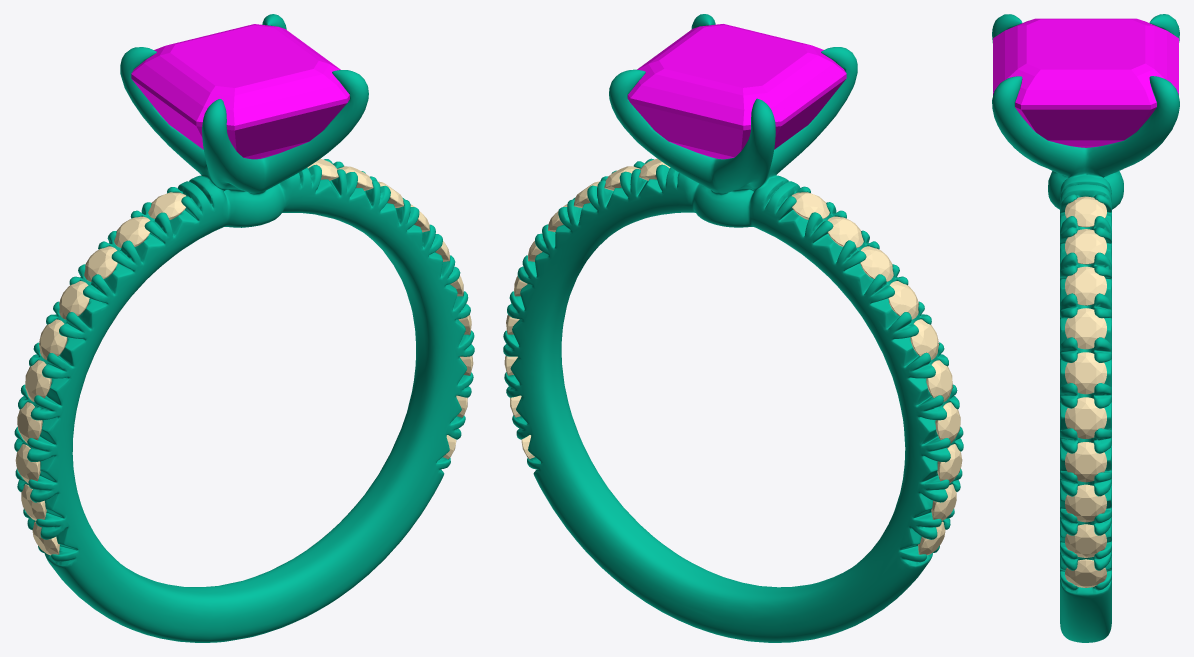
Rendered from BE1D7162_AS_200ct_RENDER.glb.
The picture shows the model from 3 angles, left to right: view 1: azimuth 30°, elevation 25°; view 2: azimuth 150°, elevation 25°; view 3: azimuth 270°, elevation 25°; orthographic projection.
Visible parts, largest first — view 1: Metal 01, CS_Diamond_Asscher, Diamond_Round_Gem_SH.002, Diamond_Round_Gem_SH.003, Diamond_Round_Gem_SH.004, Diamond_Round_Gem_SH.001, Diamond_Round_Gem_SH.005, Diamond_Round_Gem_SH, Diamond_Round_Gem_SH.006; view 2: Metal 01, CS_Diamond_Asscher, Diamond_Round_Gem_SH.003, Diamond_Round_Gem_SH.002, Diamond_Round_Gem_SH.004, Diamond_Round_Gem_SH.001, Diamond_Round_Gem_SH.005, Diamond_Round_Gem_SH, Diamond_Round_Gem_SH.006; view 3: Metal 01, CS_Diamond_Asscher, Diamond_Round_Gem_SH.014, Diamond_Round_Gem_SH.015, Diamond_Round_Gem_SH.013, Diamond_Round_Gem_SH.016, Diamond_Round_Gem_SH.012, Diamond_Round_Gem_SH.017, Diamond_Round_Gem_SH.011, Diamond_Round_Gem_SH.018, Diamond_Round_Gem_SH.010, Diamond_Round_Gem_SH.019.
Boxes of the visible parts, x1=… form: Metal 01: x1=14, y1=14, x2=474, y2=642; CS_Diamond_Asscher: x1=131, y1=24, x2=349, y2=159; Diamond_Round_Gem_SH.002: x1=84, y1=246, x2=117, y2=281; Diamond_Round_Gem_SH.003: x1=59, y1=281, x2=89, y2=319; Diamond_Round_Gem_SH.004: x1=39, y1=319, x2=67, y2=359; Diamond_Round_Gem_SH.001: x1=114, y1=216, x2=150, y2=247; Diamond_Round_Gem_SH.005: x1=25, y1=360, x2=51, y2=401; Diamond_Round_Gem_SH: x1=148, y1=192, x2=185, y2=219; Diamond_Round_Gem_SH.006: x1=17, y1=402, x2=42, y2=443; Metal 01: x1=503, y1=14, x2=963, y2=642; CS_Diamond_Asscher: x1=627, y1=24, x2=846, y2=159; Diamond_Round_Gem_SH.003: x1=888, y1=281, x2=918, y2=319; Diamond_Round_Gem_SH.002: x1=860, y1=246, x2=893, y2=281; Diamond_Round_Gem_SH.004: x1=910, y1=319, x2=938, y2=359; Diamond_Round_Gem_SH.001: x1=827, y1=216, x2=863, y2=247; Diamond_Round_Gem_SH.005: x1=926, y1=360, x2=952, y2=401; Diamond_Round_Gem_SH: x1=792, y1=192, x2=829, y2=219; Diamond_Round_Gem_SH.006: x1=935, y1=402, x2=960, y2=443; Metal 01: x1=992, y1=14, x2=1179, y2=642; CS_Diamond_Asscher: x1=993, y1=18, x2=1178, y2=147; Diamond_Round_Gem_SH.014: x1=1065, y1=352, x2=1106, y2=394; Diamond_Round_Gem_SH.015: x1=1065, y1=397, x2=1106, y2=438; Diamond_Round_Gem_SH.013: x1=1065, y1=308, x2=1106, y2=349; Diamond_Round_Gem_SH.016: x1=1065, y1=442, x2=1106, y2=482; Diamond_Round_Gem_SH.012: x1=1065, y1=266, x2=1106, y2=305; Diamond_Round_Gem_SH.017: x1=1065, y1=484, x2=1106, y2=522; Diamond_Round_Gem_SH.011: x1=1065, y1=229, x2=1106, y2=264; Diamond_Round_Gem_SH.018: x1=1065, y1=524, x2=1106, y2=557; Diamond_Round_Gem_SH.010: x1=1065, y1=196, x2=1106, y2=227; Diamond_Round_Gem_SH.019: x1=1065, y1=559, x2=1106, y2=587.
Size of the model in its own units: 20.75 by 25.59 by 7.59.
